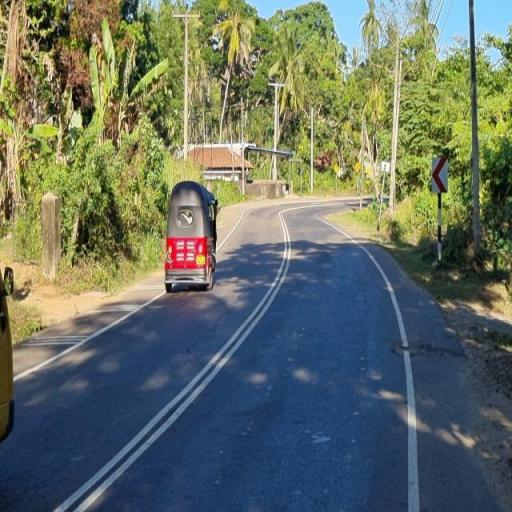double_white_line: (50, 205, 296, 512)
